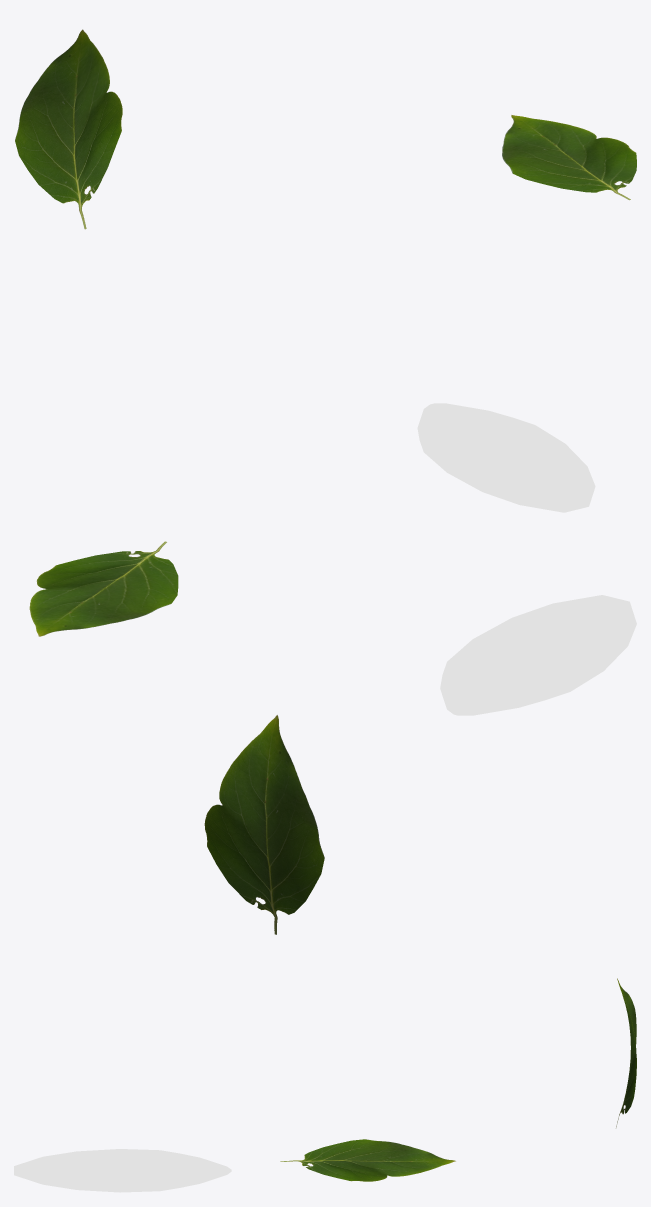
Rendered from desma flower.glb.
The picture shows the model from 3 angles, top to bottom: view 1: azimuth 30°, elevation 25°; view 2: azimuth 150°, elevation 25°; view 3: azimuth 270°, elevation 25°; orthographic projection. The views are drawn at different scales.
Visible parts, largest first — view 1: Petal, Curved leave, Flat leave; view 2: Petal, Curved leave, Flat leave; view 3: Petal, Flat leave, Curved leave.
Part boxes in pixels (left/top/right/bottom): Petal: left=417, top=403, right=595, bottom=512; Curved leave: left=15, top=29, right=122, bottom=229; Flat leave: left=502, top=115, right=636, bottom=200; Petal: left=440, top=595, right=636, bottom=715; Curved leave: left=204, top=715, right=324, bottom=934; Flat leave: left=29, top=541, right=178, bottom=636; Petal: left=14, top=1149, right=231, bottom=1192; Flat leave: left=280, top=1139, right=455, bottom=1181; Curved leave: left=616, top=978, right=636, bottom=1127.
Size of the model in its own units: 1.35 by 0.6565 by 2.21.
Materials: 3 (2 with a texture image).
